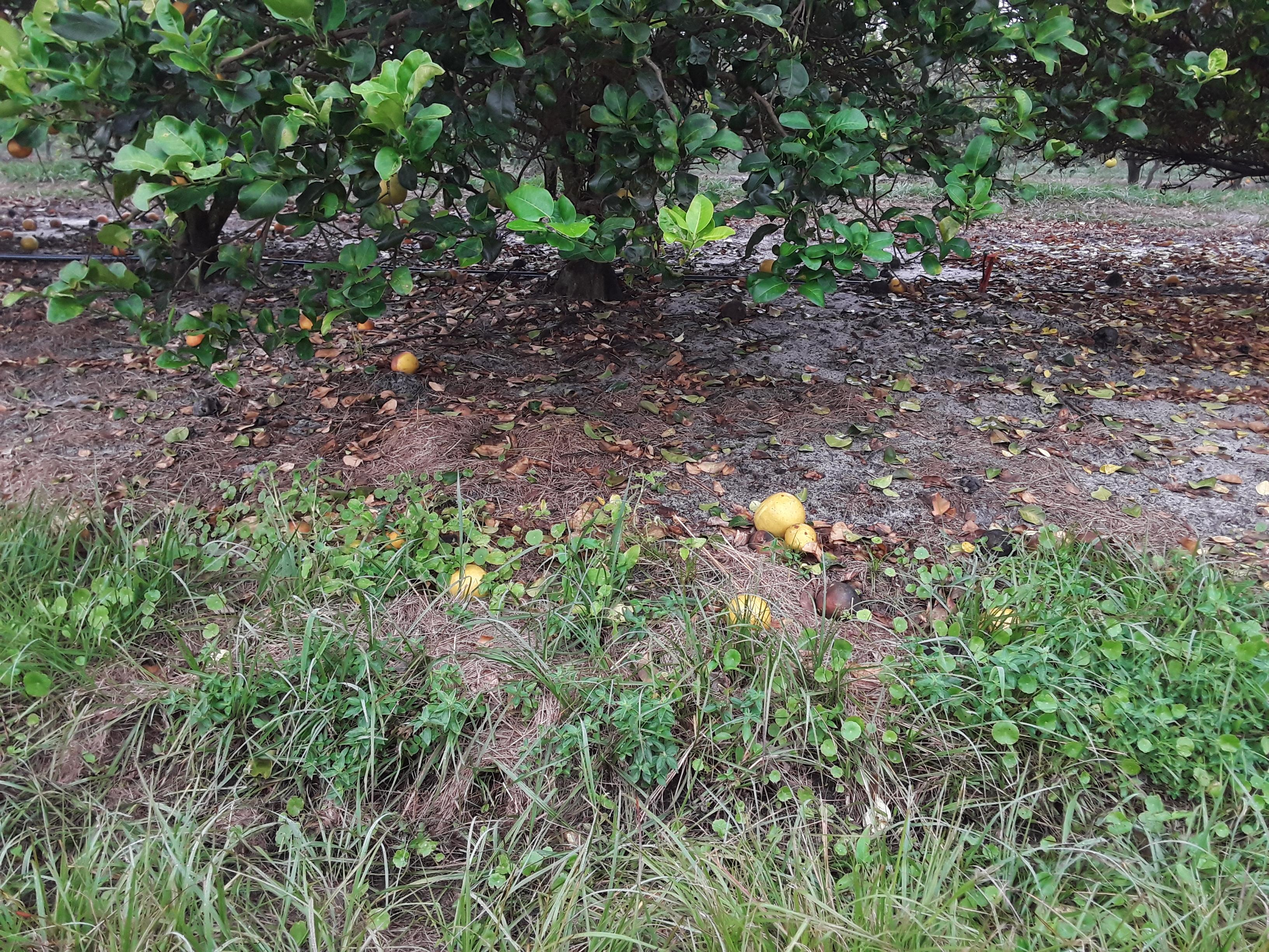fruit_on_ground: (479, 168, 524, 210), (368, 168, 413, 208), (164, 172, 206, 201), (167, 0, 201, 34), (580, 96, 607, 132), (7, 131, 35, 161), (826, 88, 851, 112), (42, 111, 65, 137), (1102, 155, 1121, 172)
fruit_on_tree: (725, 590, 784, 644), (441, 557, 495, 608), (440, 560, 498, 605), (751, 490, 806, 536), (813, 574, 860, 626), (1033, 528, 1076, 565), (976, 524, 1017, 562), (783, 521, 821, 552), (392, 348, 428, 376), (384, 527, 419, 555), (296, 308, 327, 335), (720, 300, 754, 322), (180, 328, 210, 348), (355, 314, 381, 337), (757, 255, 782, 278), (1096, 324, 1122, 346), (888, 275, 910, 297), (141, 209, 164, 226), (17, 214, 40, 231), (1104, 271, 1125, 289), (17, 235, 41, 250), (869, 280, 891, 296), (419, 234, 438, 252), (111, 241, 130, 257), (395, 212, 410, 229), (1, 227, 19, 241), (272, 221, 288, 235), (81, 219, 100, 230), (48, 215, 61, 231), (118, 210, 134, 222), (95, 213, 110, 224), (281, 234, 297, 244), (402, 236, 413, 247), (254, 226, 264, 238), (286, 225, 297, 235)
